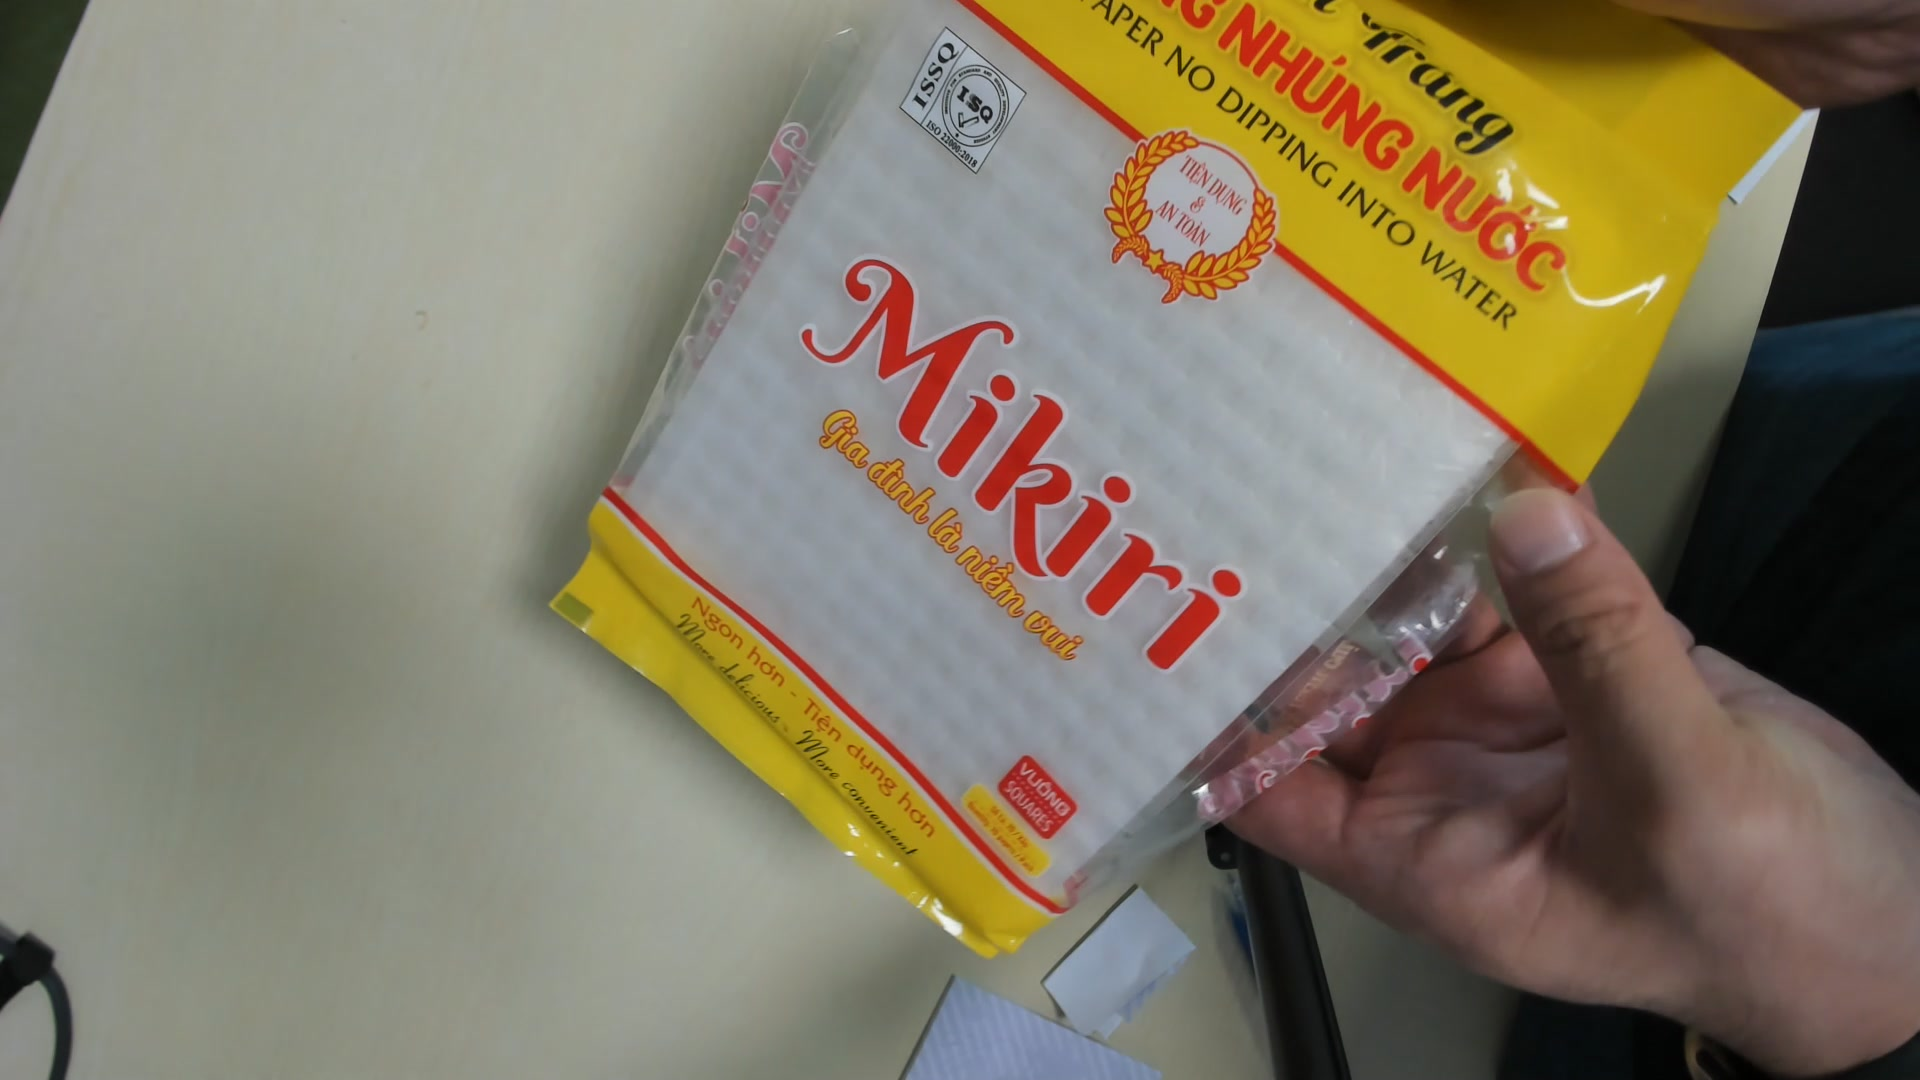InstantMeals_200_299g_NonHalal_NonHealthy: (550, 7, 1800, 975)
